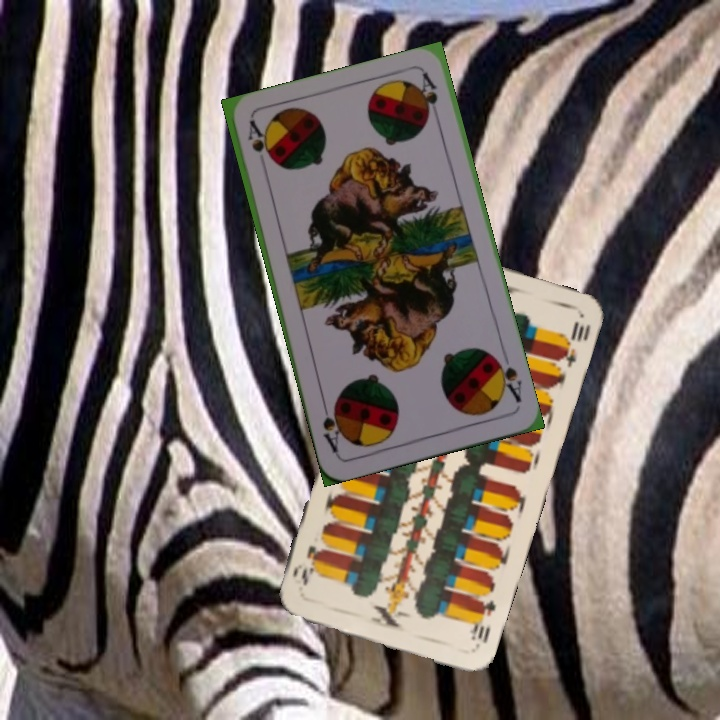E10: (465, 596, 498, 646)
SA: (489, 353, 524, 406), (243, 117, 270, 158)
